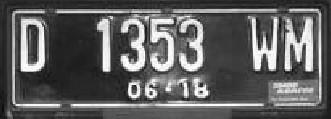1: (91, 14, 117, 78)
3: (117, 13, 148, 77), (177, 16, 206, 76)
5: (148, 13, 177, 76)
D: (17, 15, 54, 78)
M: (280, 14, 316, 74)
W: (243, 13, 280, 75)
